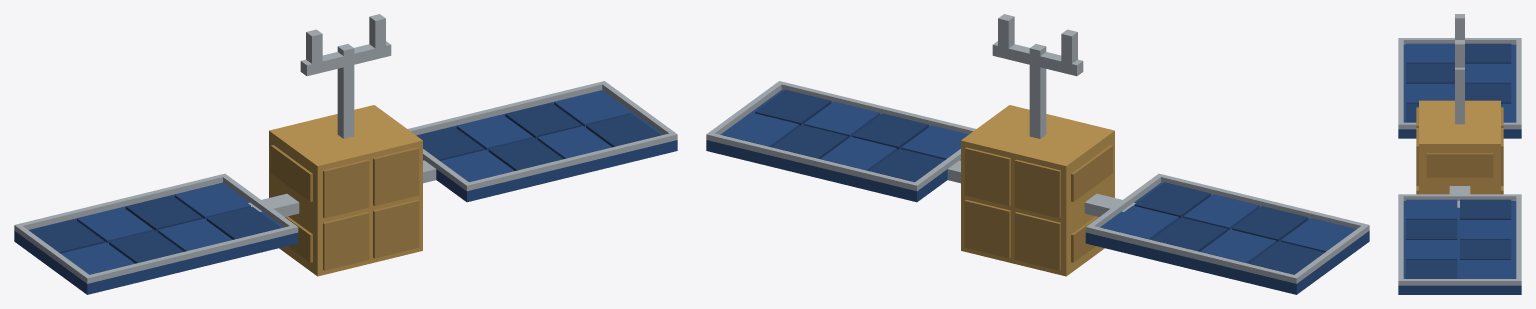
File: NEW_RECOVERY_077_LOD2.glb
3 views of the same model, side by side, from view 1: azimuth 30°, elevation 25°; view 2: azimuth 150°, elevation 25°; view 3: azimuth 270°, elevation 25° (orthographic). The views are drawn at different scales.
Visible parts, largest first — view 1: Satellite; view 2: Satellite; view 3: Satellite.
Part boxes in pixels (x1,y1,x2,y2): Satellite: [14, 14, 677, 294]; Satellite: [706, 14, 1369, 294]; Satellite: [1398, 14, 1521, 294].
Size of the model in its own units: 7 by 2.5 by 1.5.
